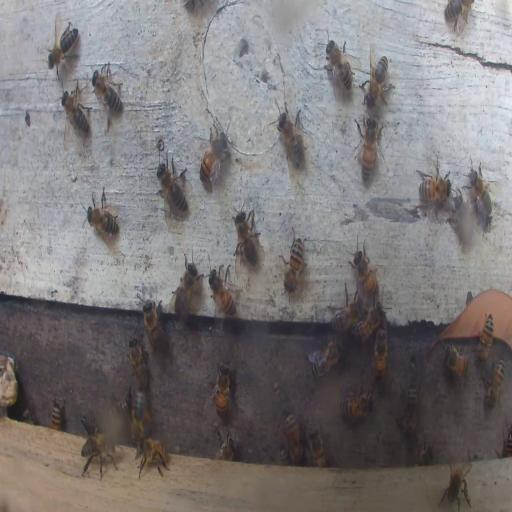nonpollenbee: (272, 102, 307, 169), (171, 250, 204, 321), (197, 127, 228, 193), (349, 234, 380, 300), (90, 61, 123, 122), (230, 203, 260, 269), (84, 185, 118, 243), (46, 18, 78, 79), (324, 34, 355, 96), (466, 159, 494, 227), (156, 158, 188, 217), (440, 458, 474, 512), (81, 431, 119, 479), (207, 264, 239, 320), (362, 52, 392, 111), (60, 82, 90, 138), (356, 116, 381, 183), (330, 286, 362, 330), (135, 437, 169, 478), (283, 231, 305, 294), (416, 166, 452, 204), (308, 337, 341, 378), (141, 301, 166, 354), (452, 194, 476, 248), (127, 335, 149, 389), (399, 382, 420, 438), (282, 412, 304, 464), (341, 389, 373, 422), (444, 0, 474, 35), (353, 304, 382, 340), (484, 357, 504, 409), (307, 424, 328, 468), (213, 363, 230, 416), (476, 313, 494, 363), (442, 344, 468, 376), (373, 327, 387, 383), (214, 426, 237, 458), (112, 389, 132, 418), (416, 435, 432, 463), (82, 416, 98, 442), (501, 421, 512, 458), (50, 400, 63, 430), (20, 406, 34, 422)
pollenbee: (130, 386, 151, 444)
